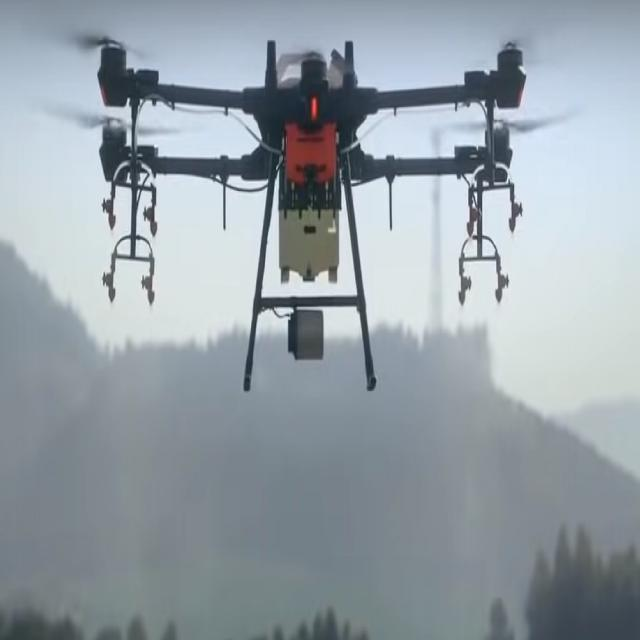drone: (24, 0, 587, 420)
